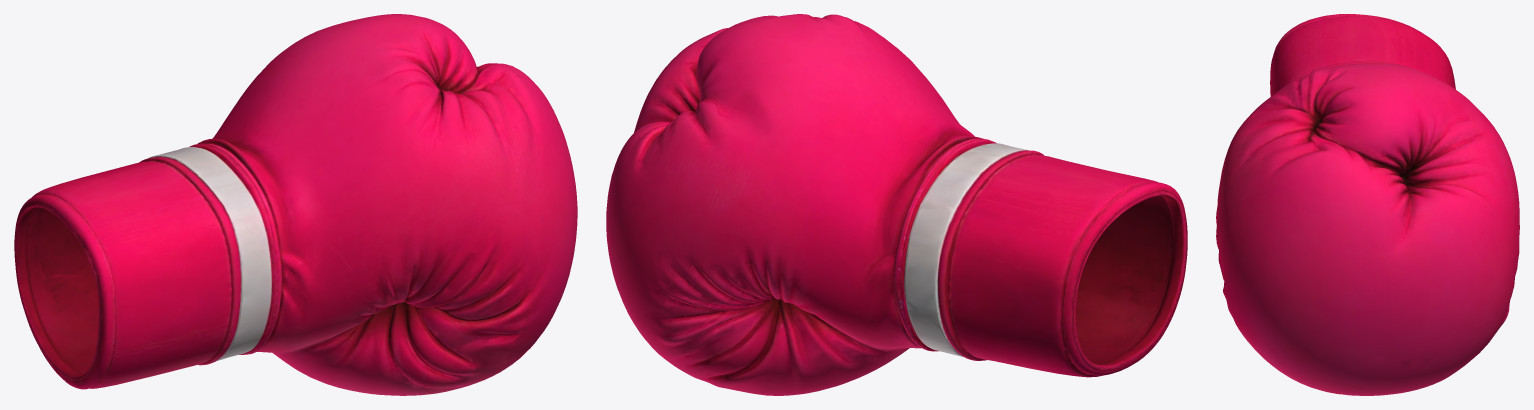
Rendered from glove_opt.glb.
The picture shows the model from 3 angles, left to right: view 1: azimuth 30°, elevation 25°; view 2: azimuth 150°, elevation 25°; view 3: azimuth 270°, elevation 25°; orthographic projection. The views are drawn at different scales.
Parts seen in each view (by area): view 1: model; view 2: model; view 3: model.
Part boxes in pixels (x1,y1,x2,y2): model: (14,14,577,395); model: (606,14,1187,395); model: (1216,14,1519,395).
Bounding box in the file's own units: 1.9 × 1.28 × 1.17.
1 material, 1 textured.
